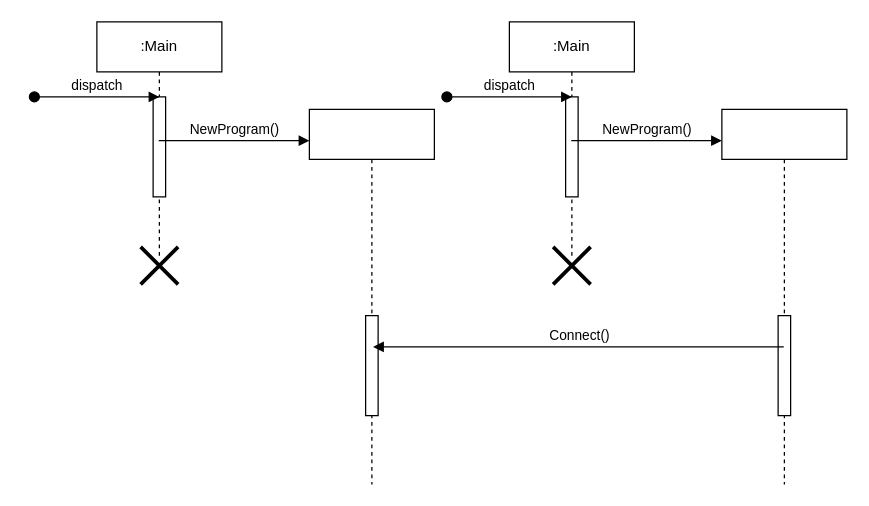
This 869x506 diagram has some shape labels left out. Each missing label, with the box of its shape:
:Client: (721, 108, 847, 484)
:Server: (308, 108, 434, 484)
